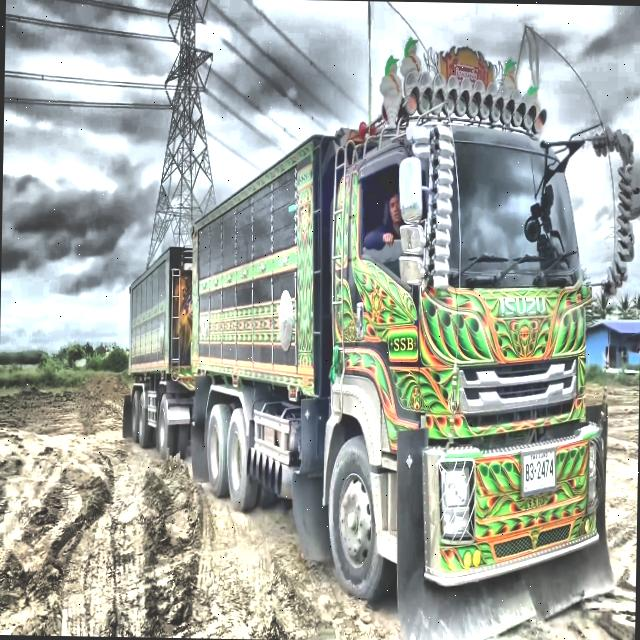trailer: (123, 39, 606, 606)
